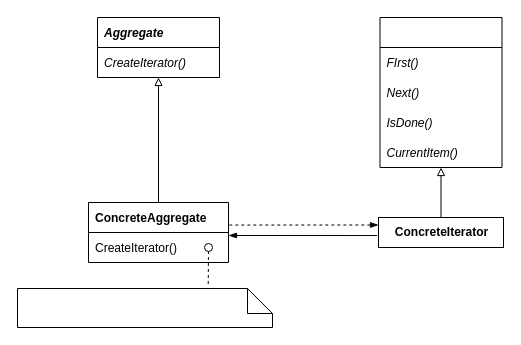
The diagram is 521 pixels wide and 345 high, and some of its shapes have lost their labels. The shapes that lost their labels are listed below. From the top down, each one's box as (x1, y1, x2, y2) in pixels, then its label:
(379, 16, 502, 168): Iterator
(16, 288, 272, 328): return new ConcreteIterator(this)
